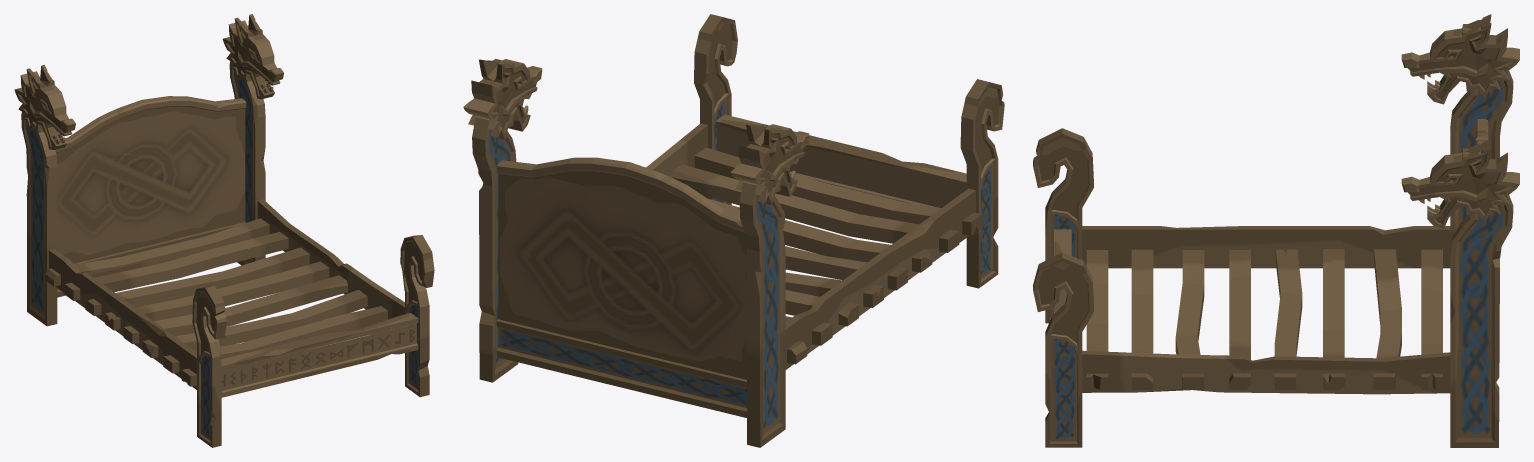
The model's file is SM_Prop_Bed_01.fbx.
The picture shows the model from 3 angles, left to right: view 1: azimuth 30°, elevation 25°; view 2: azimuth 150°, elevation 25°; view 3: azimuth 270°, elevation 25°; orthographic projection. The views are drawn at different scales.
Visible parts, largest first — view 1: SM_Prop_Bed_01; view 2: SM_Prop_Bed_01; view 3: SM_Prop_Bed_01.
Boxes of the visible parts, bbox=[...] form: SM_Prop_Bed_01: bbox=[14, 14, 434, 447]; SM_Prop_Bed_01: bbox=[463, 14, 1004, 447]; SM_Prop_Bed_01: bbox=[1033, 14, 1519, 447].
Size of the model in its own units: 188 by 194 by 284.
